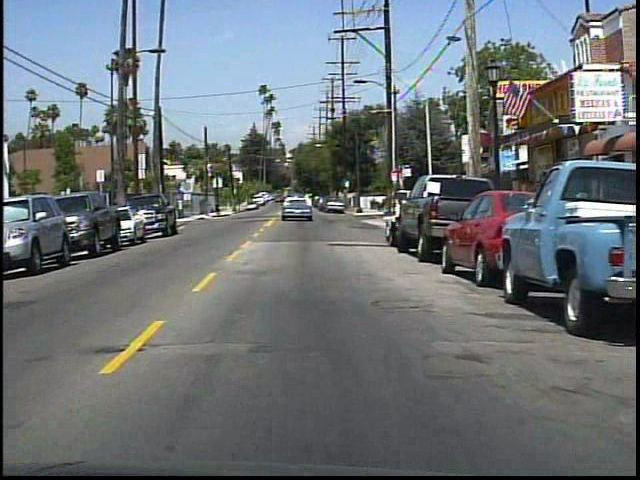person: (541, 177, 568, 241)
